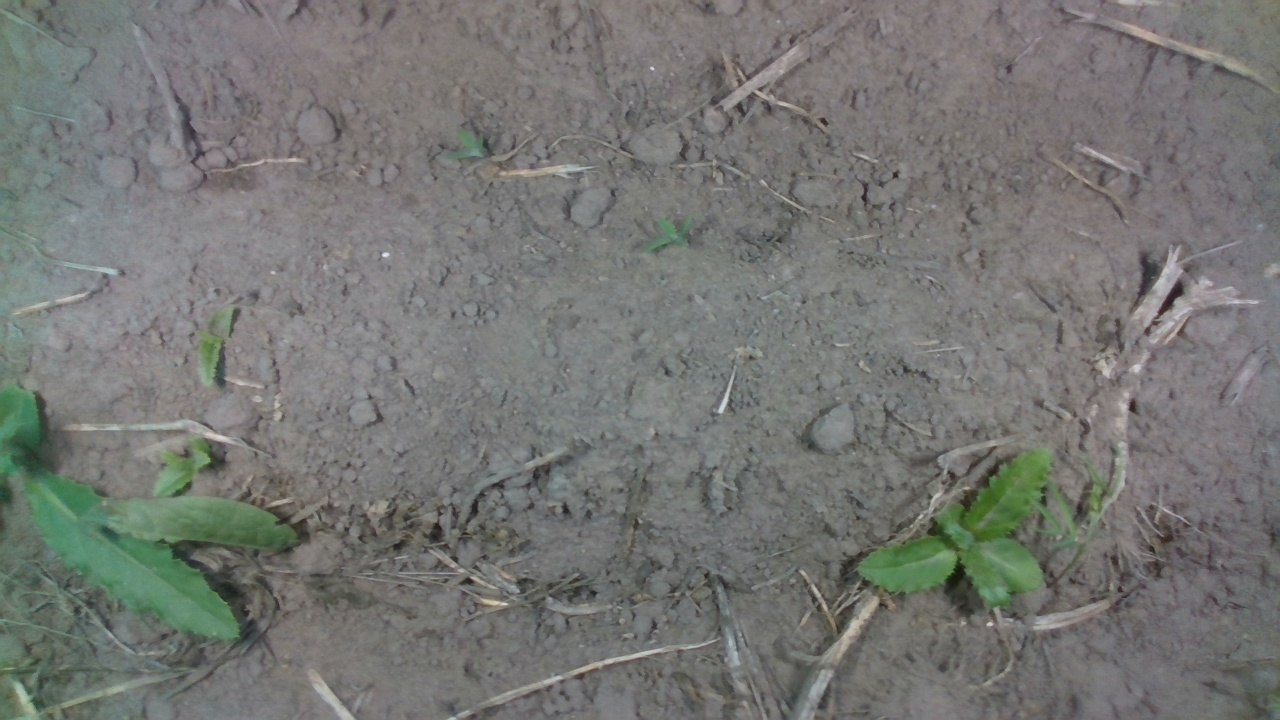weed: (194, 301, 238, 389), (641, 211, 695, 254)
